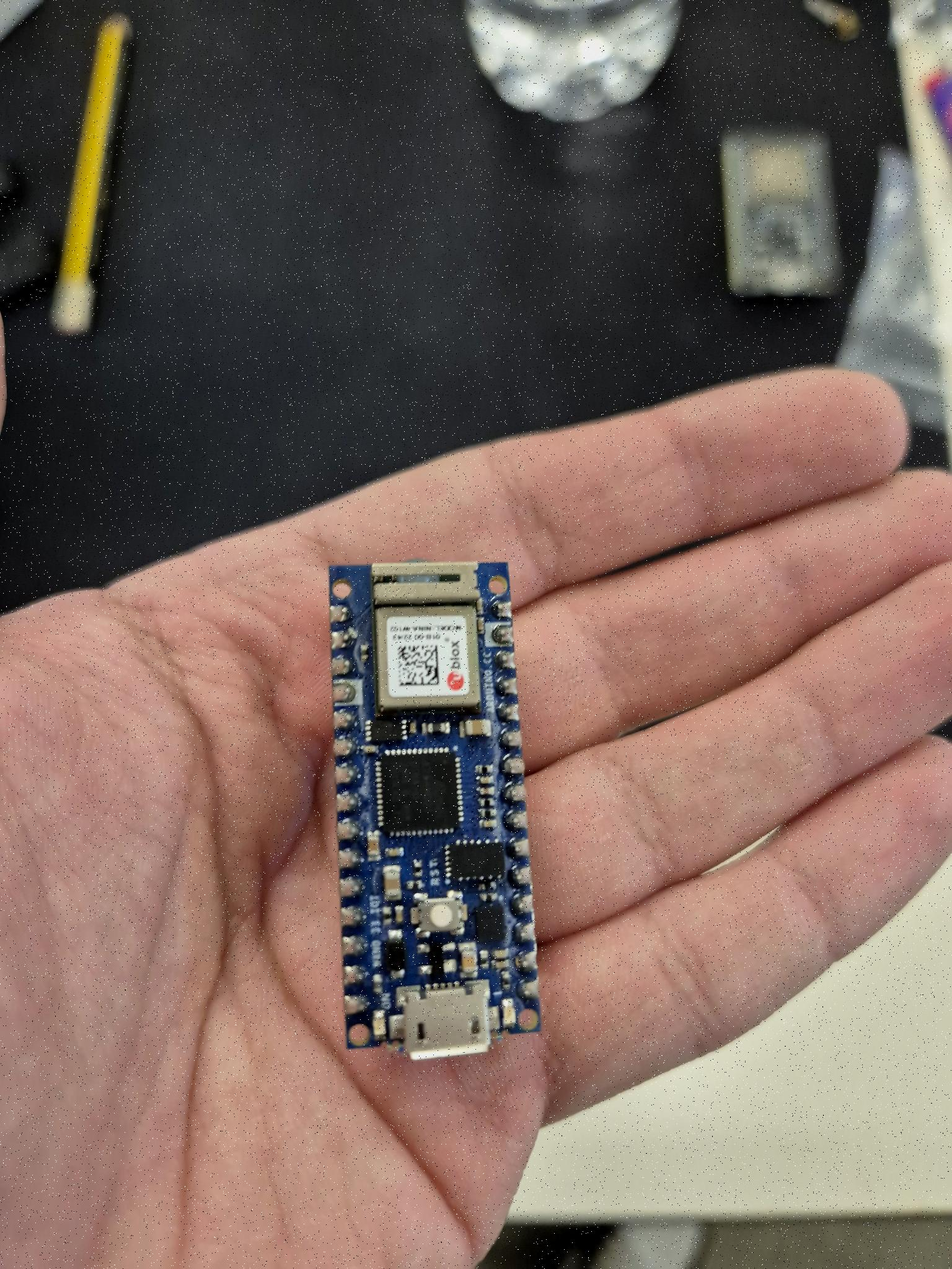arduino-nano-iot-33: (328, 563, 533, 1049)
